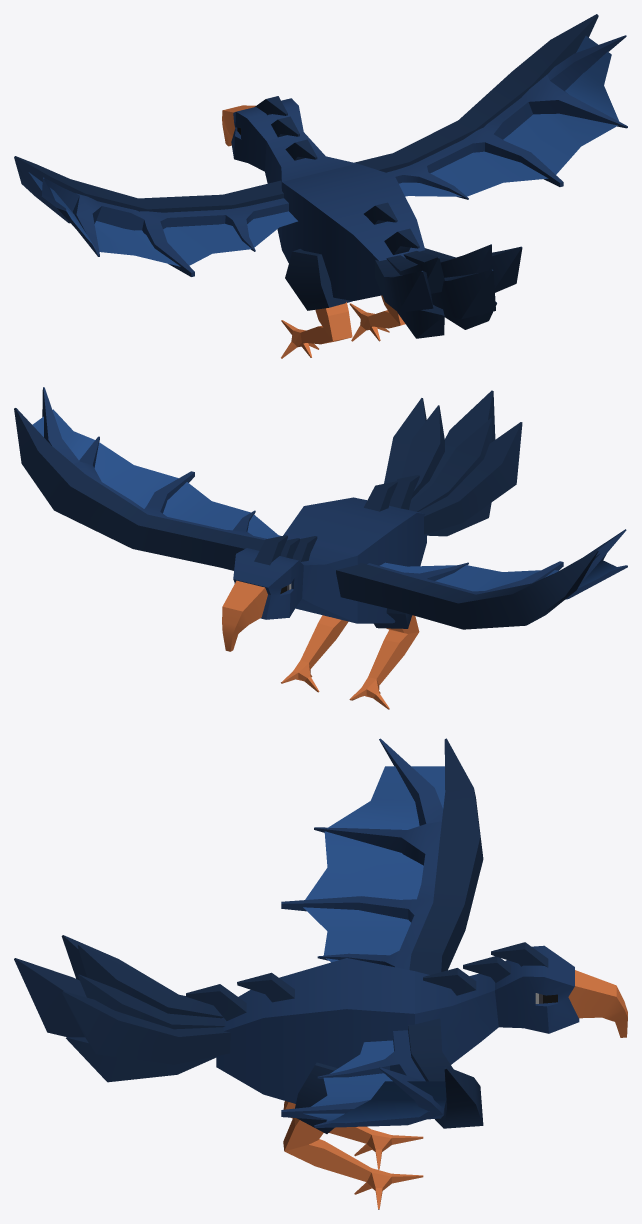
File: argentavis.obj
3 views of the same model, one above another, from view 1: azimuth 30°, elevation 25°; view 2: azimuth 150°, elevation 25°; view 3: azimuth 270°, elevation 25° (orthographic). The views are drawn at different scales.
Parts seen in each view (by area): view 1: RightWing, LeftWing, Torso, Tail, Head, Neck, LeftLeg, LeftFoot, RightFoot; view 2: RightWing, LeftWing, Tail, Torso, Head, Neck, LeftFoot, RightFoot, LeftLeg; view 3: LeftWing, Torso, Tail, RightWing, Head, Neck, RightFoot, LeftFoot, RightLeg.
Part boxes in pixels (<box>): RightWing: <box>354,14,627,199</box>; LeftWing: <box>14,156,297,276</box>; Torso: <box>282,163,425,300</box>; Tail: <box>375,244,522,338</box>; Head: <box>222,96,303,171</box>; Neck: <box>265,132,356,249</box>; LeftLeg: <box>285,249,352,310</box>; LeftFoot: <box>281,302,352,358</box>; RightFoot: <box>349,295,405,341</box>; RightWing: <box>14,387,280,570</box>; LeftWing: <box>336,529,627,629</box>; Tail: <box>384,390,522,536</box>; Torso: <box>283,475,426,623</box>; Head: <box>222,535,303,651</box>; Neck: <box>287,536,357,623</box>; LeftFoot: <box>349,615,419,709</box>; RightFoot: <box>281,615,348,692</box>; LeftLeg: <box>373,566,412,628</box>; LeftWing: <box>281,738,483,974</box>; Torso: <box>186,958,414,1103</box>; Tail: <box>14,935,230,1082</box>; RightWing: <box>281,1018,483,1128</box>; Head: <box>463,942,627,1037</box>; Neck: <box>415,968,498,1064</box>; RightFoot: <box>283,1118,423,1209</box>; LeftFoot: <box>283,1101,423,1169</box>; RightLeg: <box>295,1062,337,1133</box>.
Bounding box in the file's own units: 15.71 × 6.15 × 12.36.
